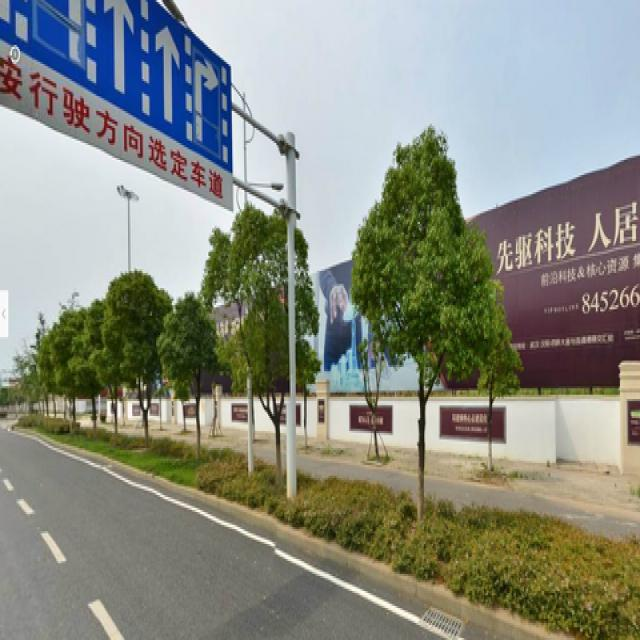cinn: (363, 138, 508, 536)
